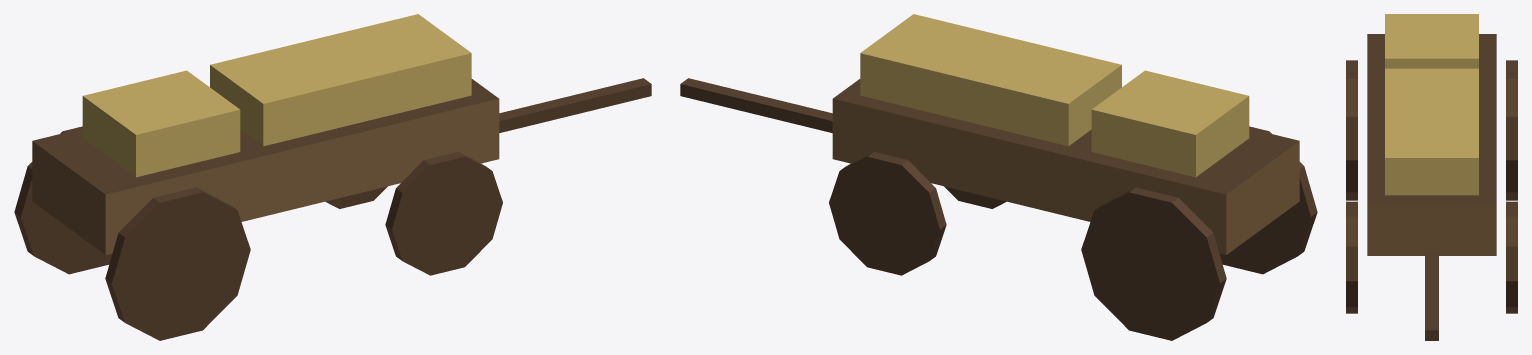
The model's file is wagon.glb.
3 renders of one model, left to right at view 1: azimuth 30°, elevation 25°; view 2: azimuth 150°, elevation 25°; view 3: azimuth 270°, elevation 25°, orthographic. The views are drawn at different scales.
Parts seen in each view (by area): view 1: wagon; view 2: wagon; view 3: wagon.
Boxes of the visible parts, x1,y1,x2,y2 form: wagon: (14, 14, 651, 340); wagon: (680, 14, 1317, 340); wagon: (1346, 14, 1517, 340).
Bounding box in the file's own units: 5.05 × 1.58 × 1.46.
